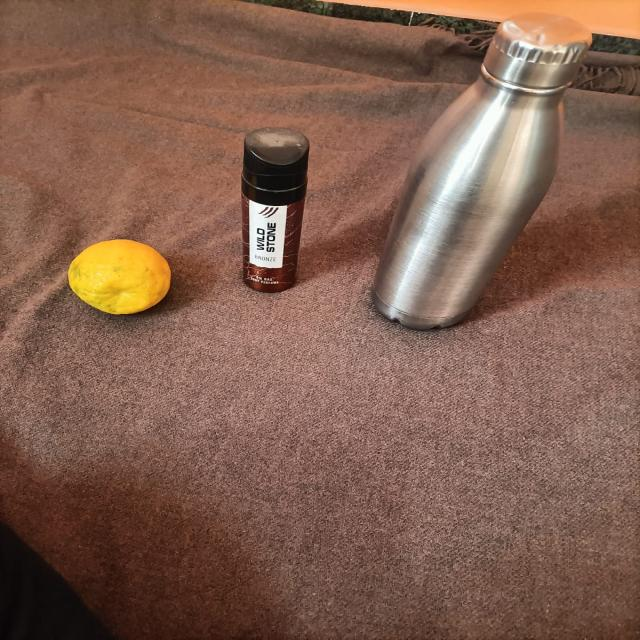bottle: (351, 0, 596, 353)
orange: (55, 233, 188, 323)
spray: (240, 121, 327, 311)
